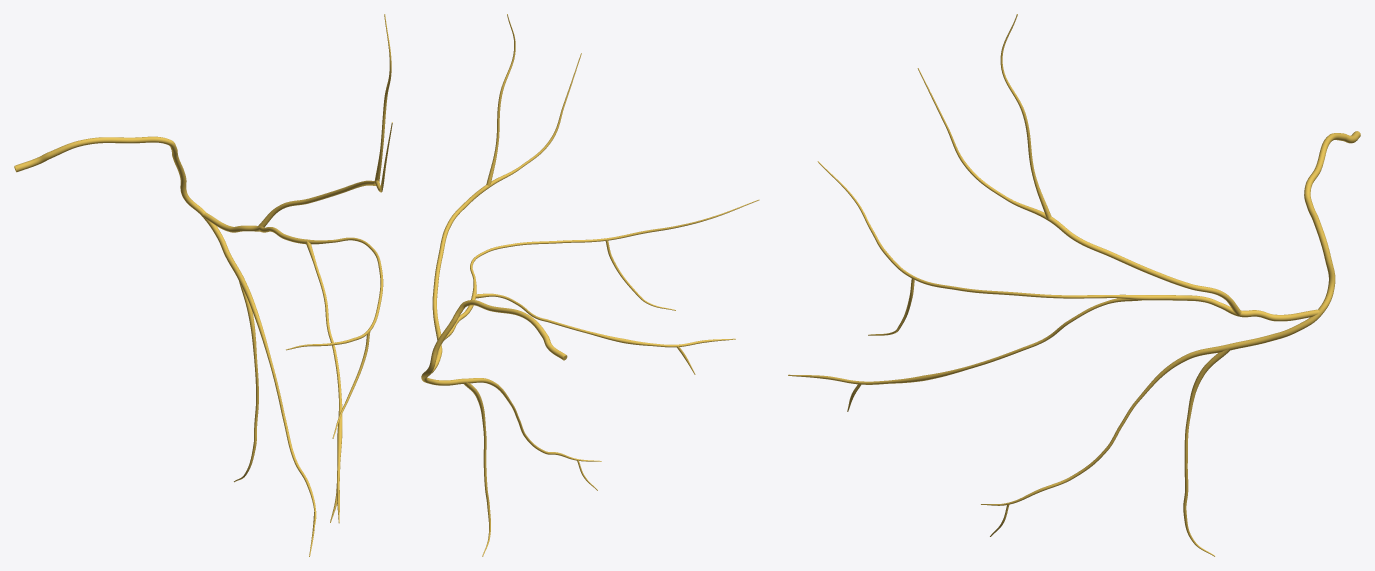
File: Facial_nerve_VII_left.glb
3 views of the same model, side by side, from view 1: azimuth 30°, elevation 25°; view 2: azimuth 150°, elevation 25°; view 3: azimuth 270°, elevation 25° (orthographic). The views are drawn at different scales.
Parts seen in each view (by area): view 1: Facial_nerve_(VII).l_BezierCurve.528; view 2: Facial_nerve_(VII).l_BezierCurve.528; view 3: Facial_nerve_(VII).l_BezierCurve.528.
Boxes of the visible parts, left/top/right/bottom form: Facial_nerve_(VII).l_BezierCurve.528: left=14, top=14, right=392, bottom=556; Facial_nerve_(VII).l_BezierCurve.528: left=421, top=14, right=759, bottom=556; Facial_nerve_(VII).l_BezierCurve.528: left=788, top=14, right=1360, bottom=556.
Bounding box in the file's own units: 0.0566 × 0.1161 × 0.1046.
